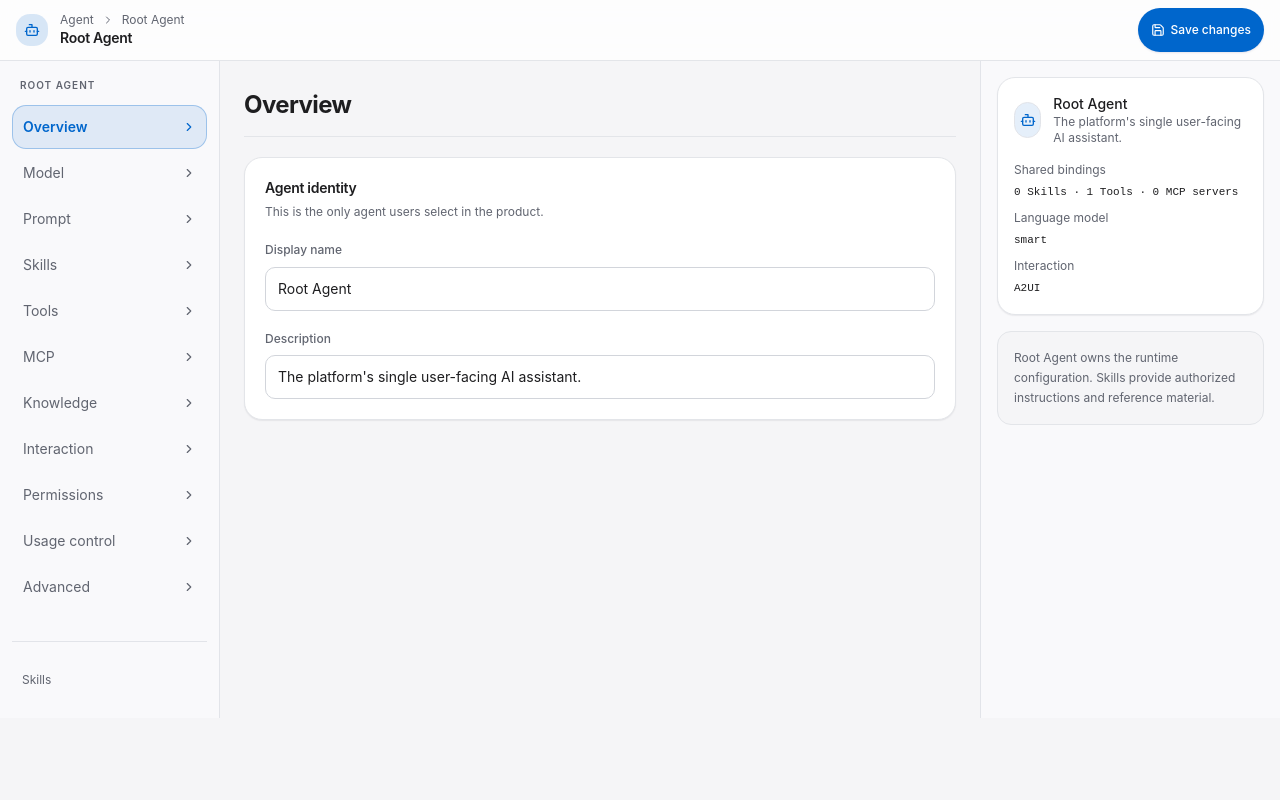
Test: Root model selection › shows the actual saved model smart when the registry has other models
This screenshot has width=1280, height=800.
Click the button "Model" at (110, 173), box [12,151,207,195]
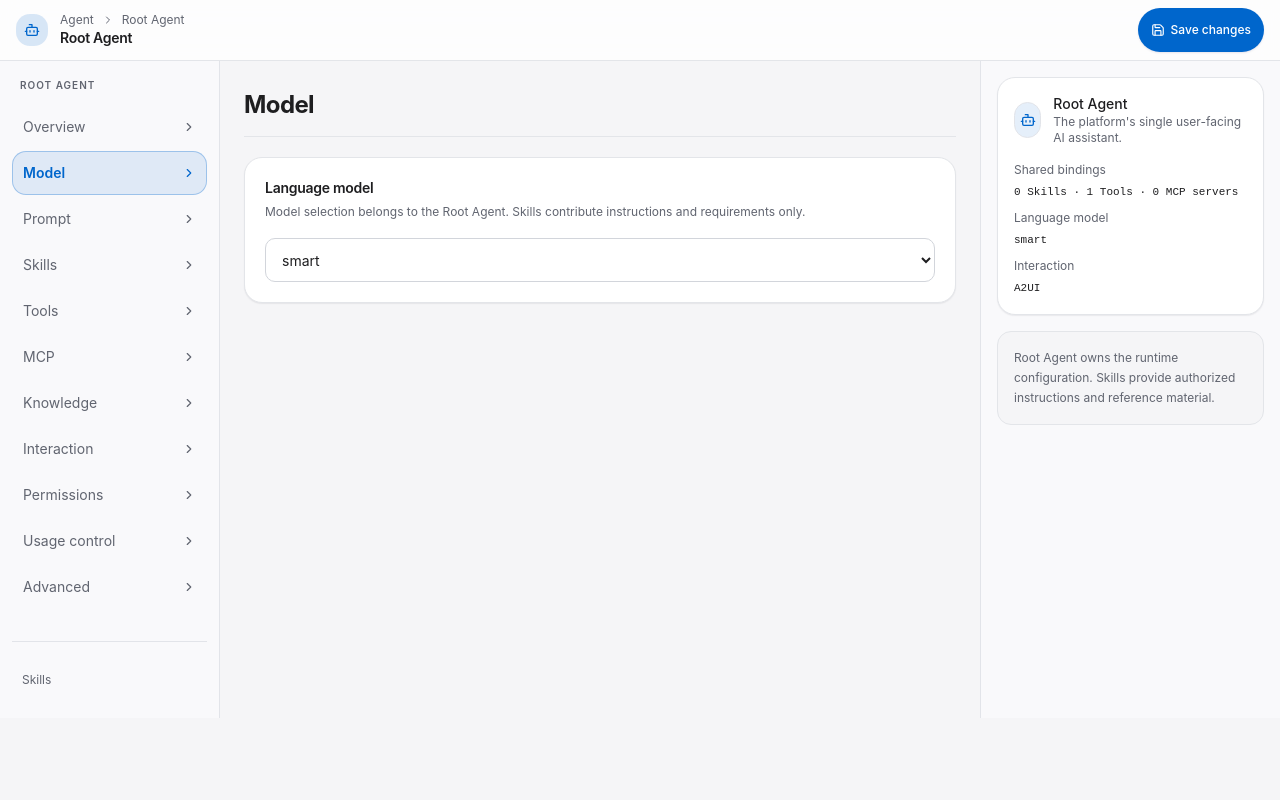
Expected: the dropdown named "Language model" shows "smart", [265,238,935,282]
